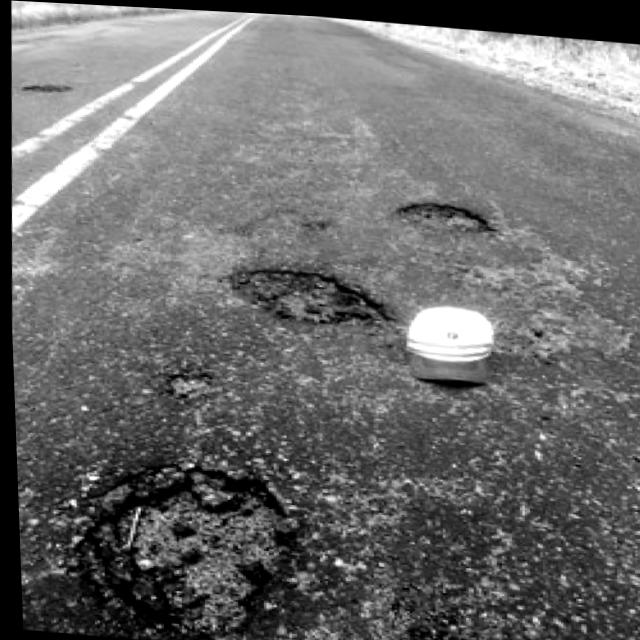pathole: (76, 467, 295, 633), (229, 267, 382, 324), (396, 198, 491, 227), (400, 201, 490, 226), (20, 87, 70, 92)
